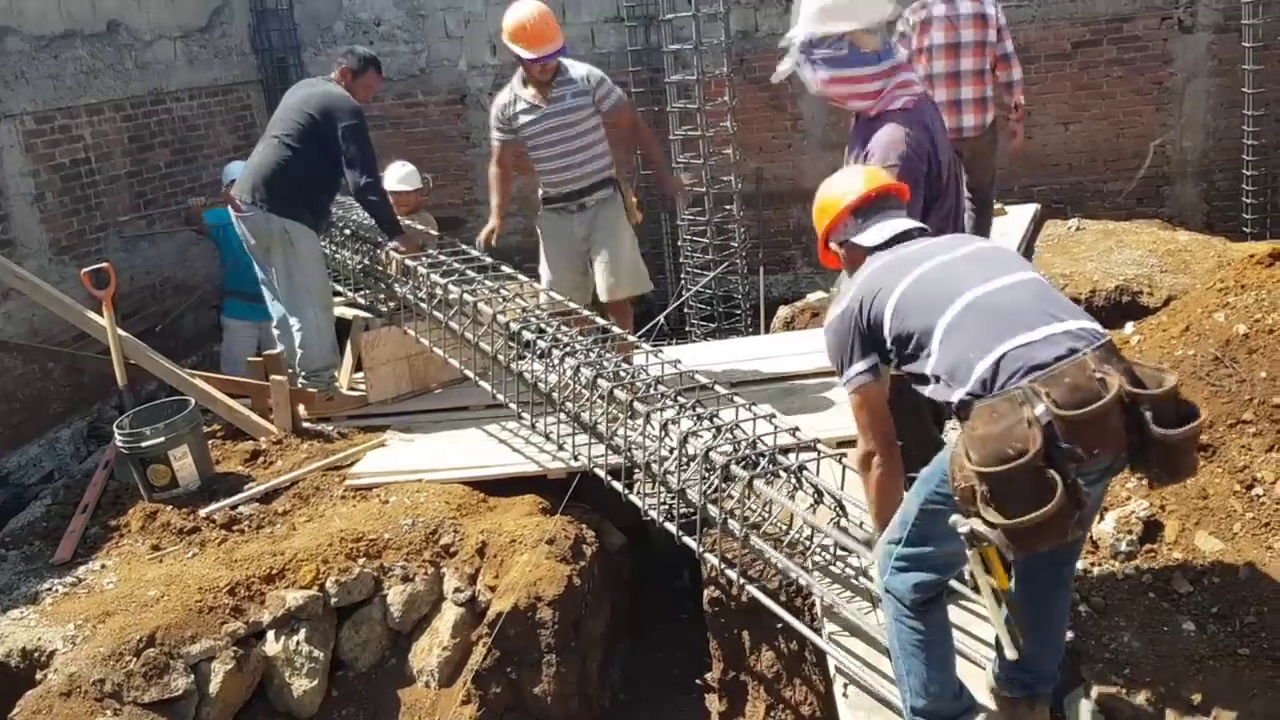helmet: (773, 1, 898, 84), (812, 164, 910, 267), (500, 5, 569, 59), (380, 160, 422, 192), (219, 156, 245, 188)
helmet-off: (324, 47, 384, 107)
helmet-on: (775, 1, 936, 138), (811, 161, 936, 279), (502, 3, 571, 83), (381, 162, 424, 219), (219, 157, 244, 215)
person: (802, 156, 1166, 718), (473, 7, 678, 326), (237, 40, 413, 411), (773, 2, 973, 242), (897, 0, 1020, 235), (183, 145, 276, 386), (377, 160, 436, 247)
